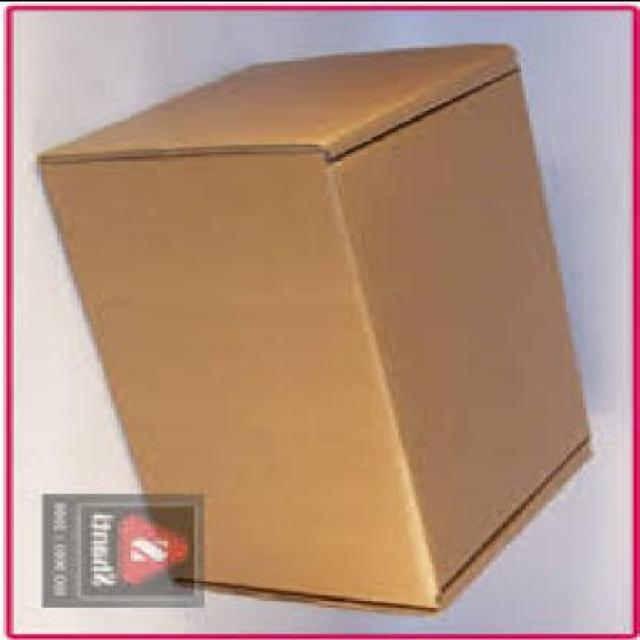CARDBOARD: (40, 47, 600, 616)
